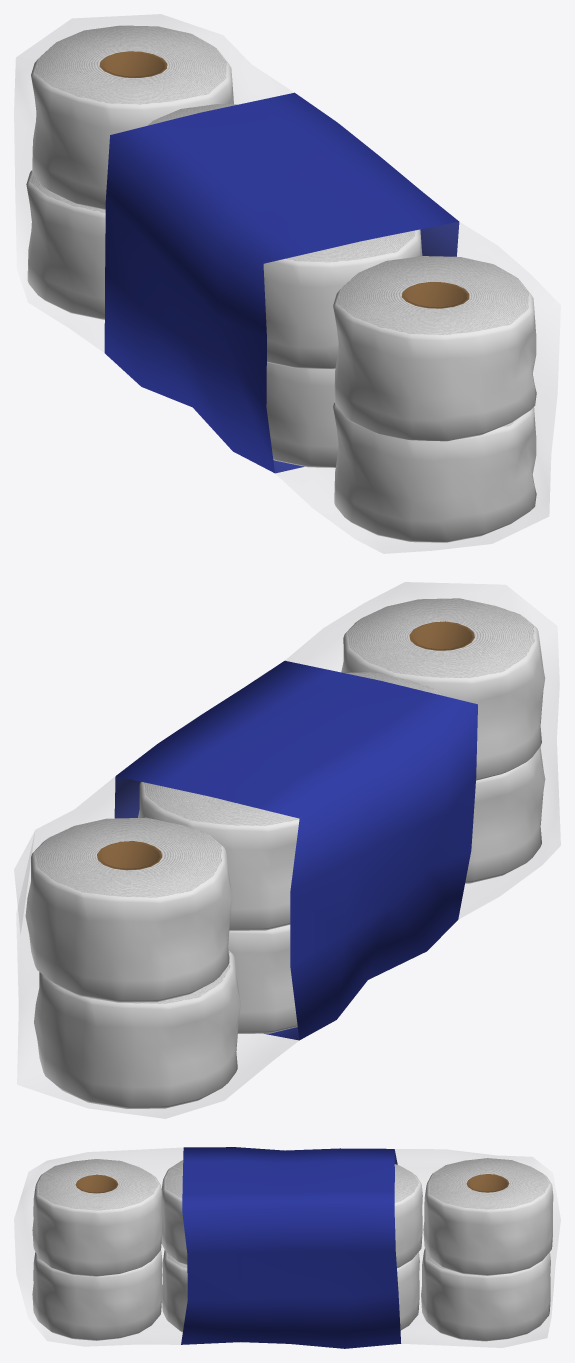
The model's file is papier_zestaw.glb.
3 renders of one model, top to bottom at view 1: azimuth 30°, elevation 25°; view 2: azimuth 150°, elevation 25°; view 3: azimuth 270°, elevation 25°, orthographic. The views are drawn at different scales.
Visible parts, largest first — view 1: Cube, rolka.007, rolka.004, rolka.003, rolka.006, rolka, rolka.002; view 2: Cube, rolka.004, rolka, rolka.007, rolka.005, rolka.003, rolka.001; view 3: Cube, rolka.004, rolka.007, rolka, rolka.003, rolka.005, rolka.006, rolka.002, rolka.001.
Part boxes in pixels (x1,y1,x2,y2): Cube: (14, 14, 560, 553); rolka.007: (333, 256, 536, 441); rolka.004: (31, 25, 233, 209); rolka.003: (333, 402, 536, 542); rolka.006: (263, 229, 422, 369); rolka: (26, 170, 105, 319); rolka.002: (266, 362, 338, 467); Cube: (14, 582, 560, 1118); rolka.004: (25, 817, 232, 1002); rolka: (34, 950, 240, 1108); rolka.007: (341, 598, 545, 780); rolka.005: (138, 781, 299, 930); rolka.003: (465, 746, 545, 883); rolka.001: (228, 925, 297, 1033); Cube: (14, 1147, 560, 1348); rolka.004: (423, 1158, 553, 1275); rolka.007: (32, 1159, 161, 1276); rolka: (421, 1248, 550, 1341); rolka.003: (32, 1250, 162, 1340); rolka.005: (394, 1164, 422, 1268); rolka.006: (161, 1160, 187, 1264); rolka.002: (162, 1250, 187, 1332); rolka.001: (397, 1252, 419, 1330).
Size of the model in its own units: 2.28 by 2.33 by 7.75.
5 materials, 1 textured.
